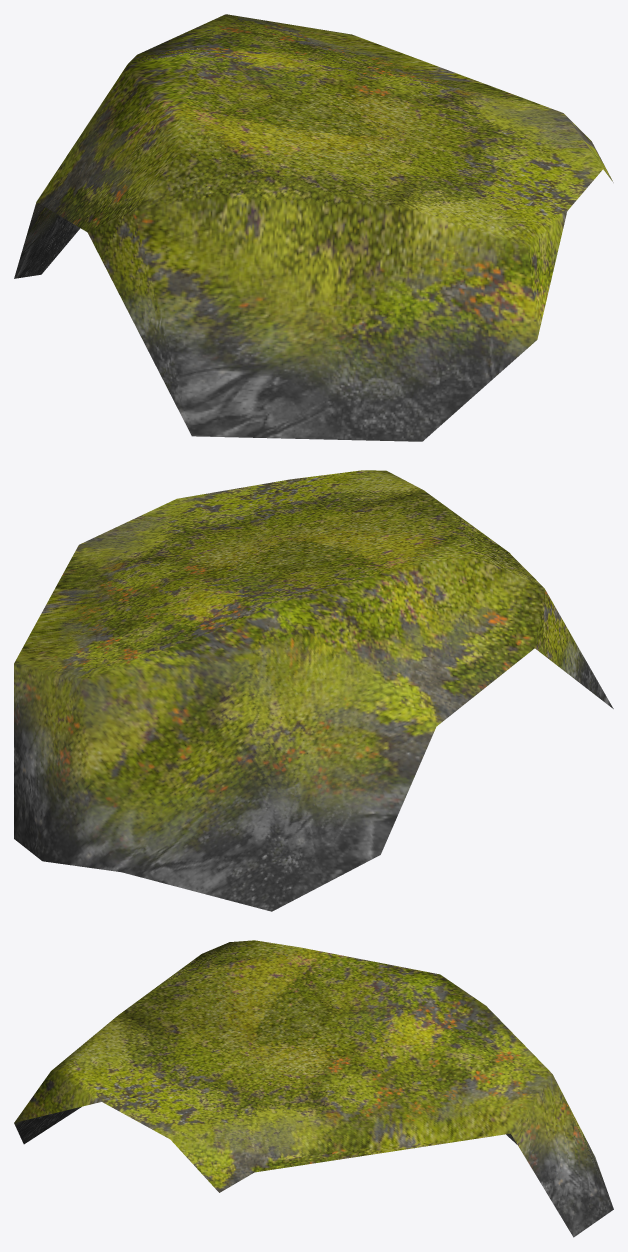
Rendered from FlyingStoneCollider.fbx.
The picture shows the model from 3 angles, top to bottom: view 1: azimuth 30°, elevation 25°; view 2: azimuth 150°, elevation 25°; view 3: azimuth 270°, elevation 25°; orthographic projection. The views are drawn at different scales.
Visible parts, largest first — view 1: FlyingStoneCollider; view 2: FlyingStoneCollider; view 3: FlyingStoneCollider.
Part boxes in pixels (x1=…): FlyingStoneCollider: x1=14, y1=14, x2=613, y2=441; FlyingStoneCollider: x1=14, y1=470, x2=613, y2=911; FlyingStoneCollider: x1=14, y1=940, x2=613, y2=1237.
Bounding box in the file's own units: 24.51 × 12.71 × 32.4.
